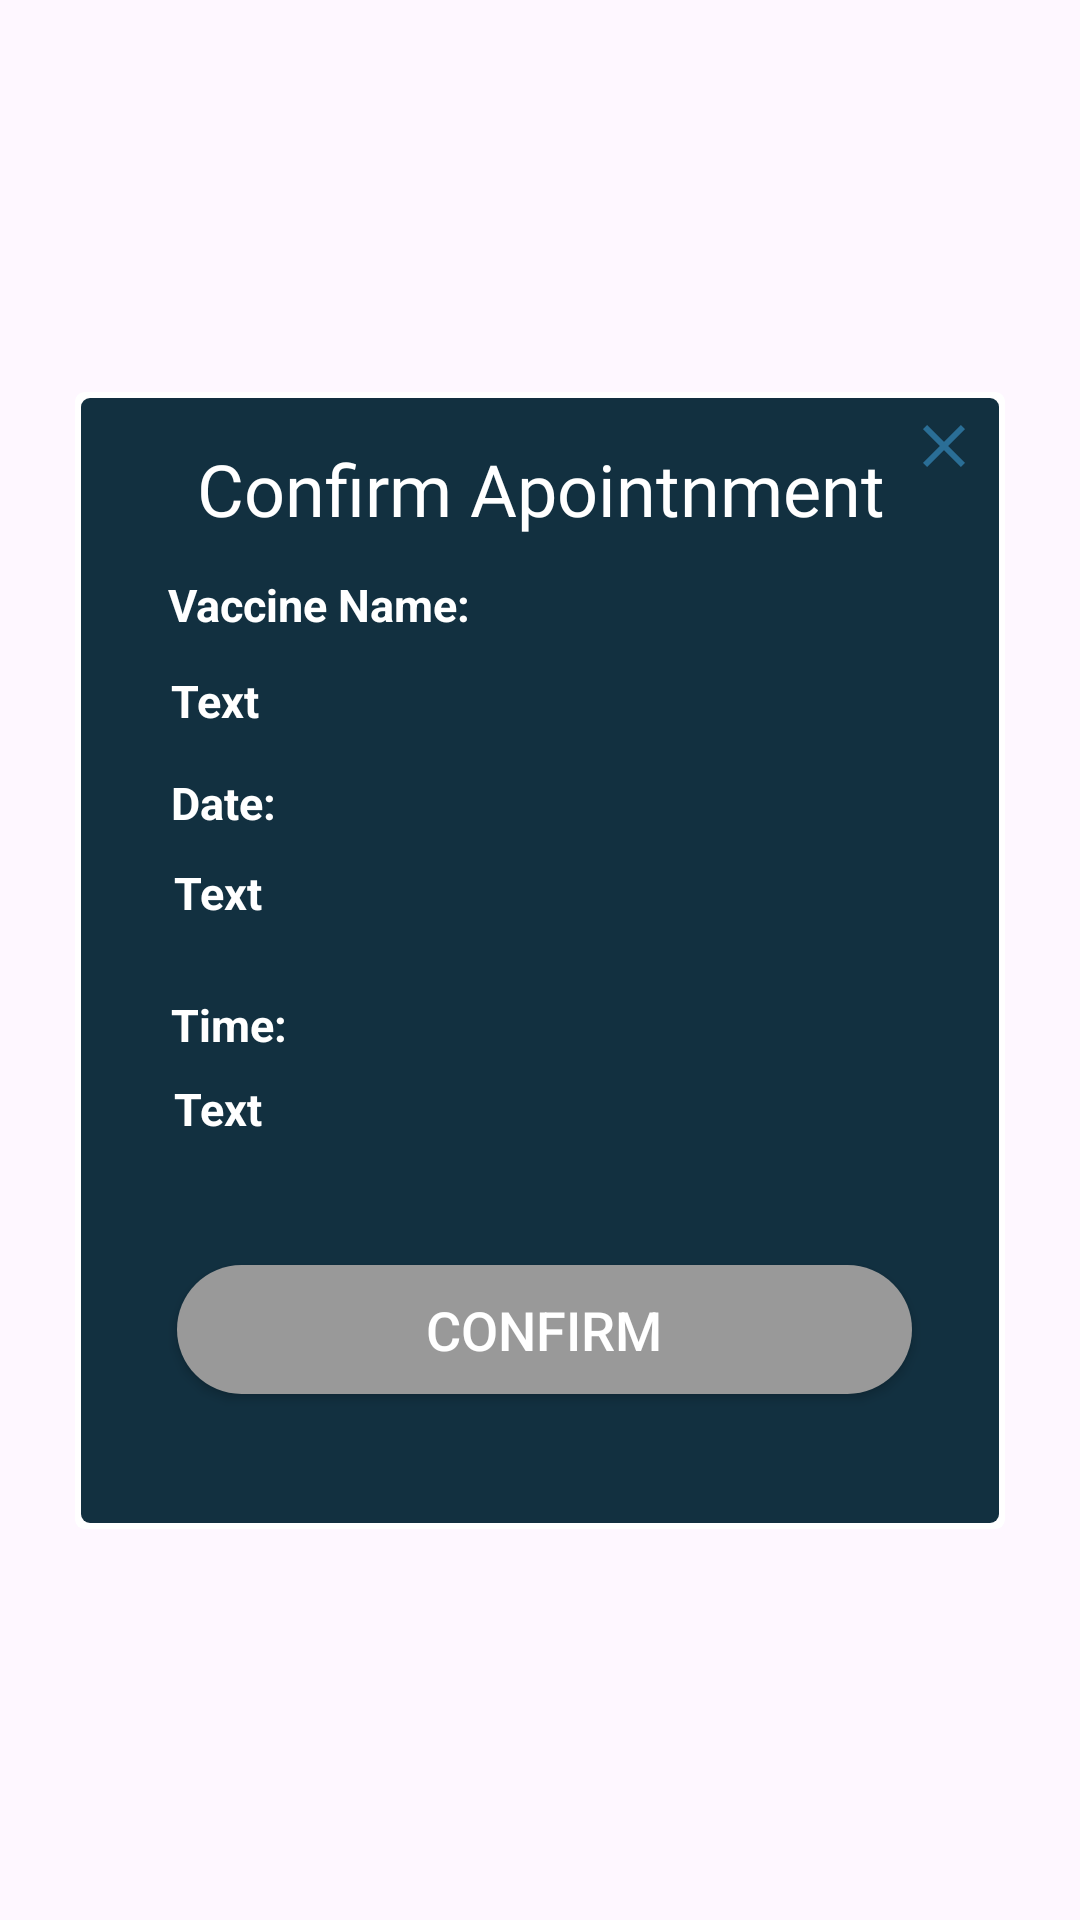

Screen size 1080*1920. Icon name, then its box in pixels as bbox(x1, y1, x2, y2):
close: bbox(923, 425, 965, 467)
